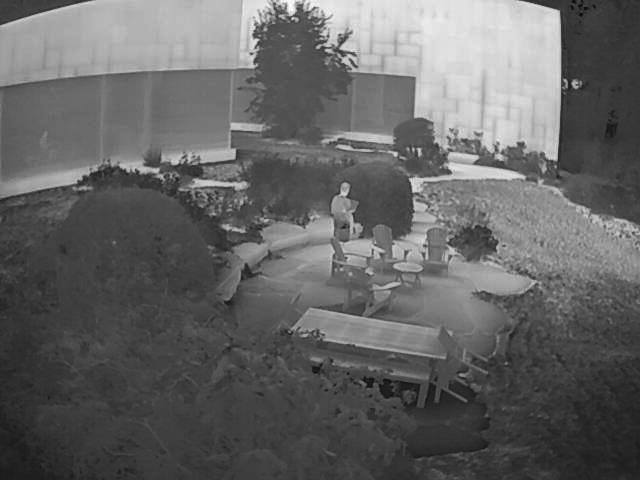person: (330, 184, 358, 276)
